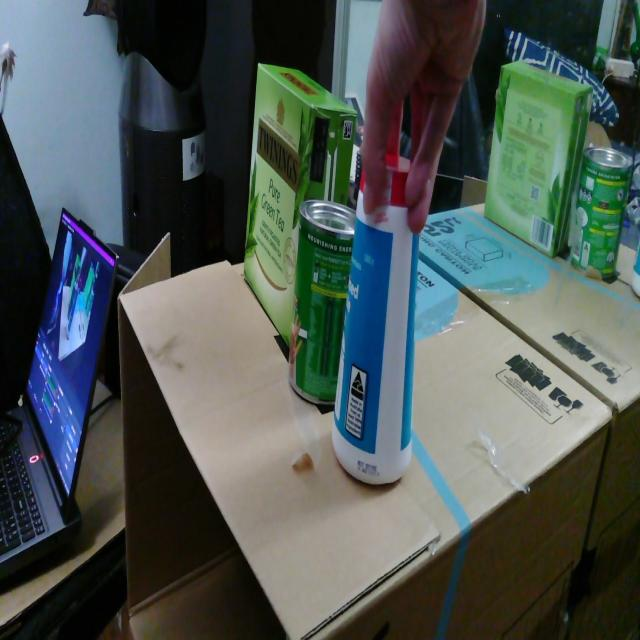nestle_milo_tin: (289, 200, 356, 405)
twinings_greentea_box: (244, 64, 357, 347)
woolworths_salt_bottle: (332, 152, 419, 484)
